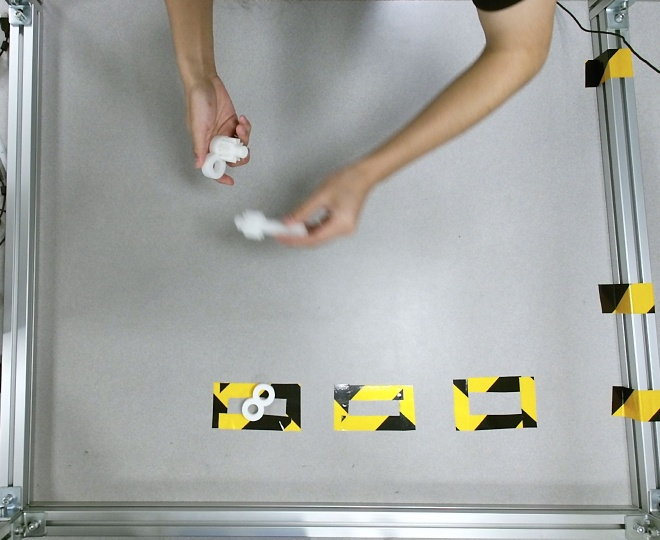stage_2: (202, 135, 248, 179)
